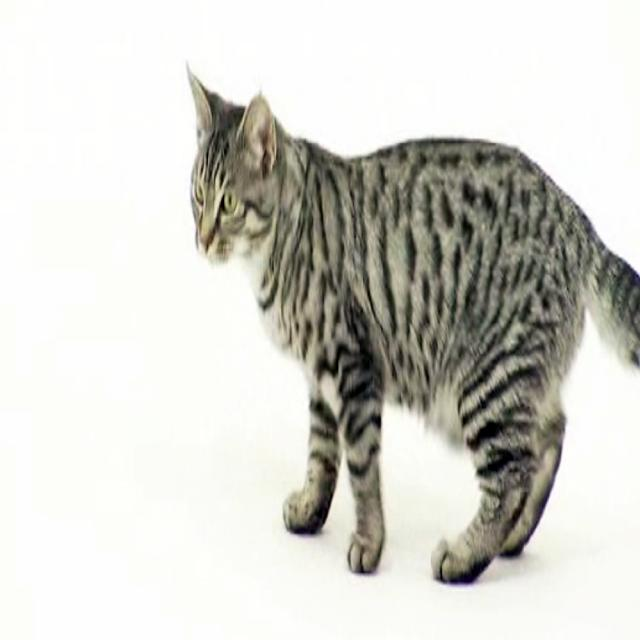American Bobtail: (180, 54, 640, 591)
